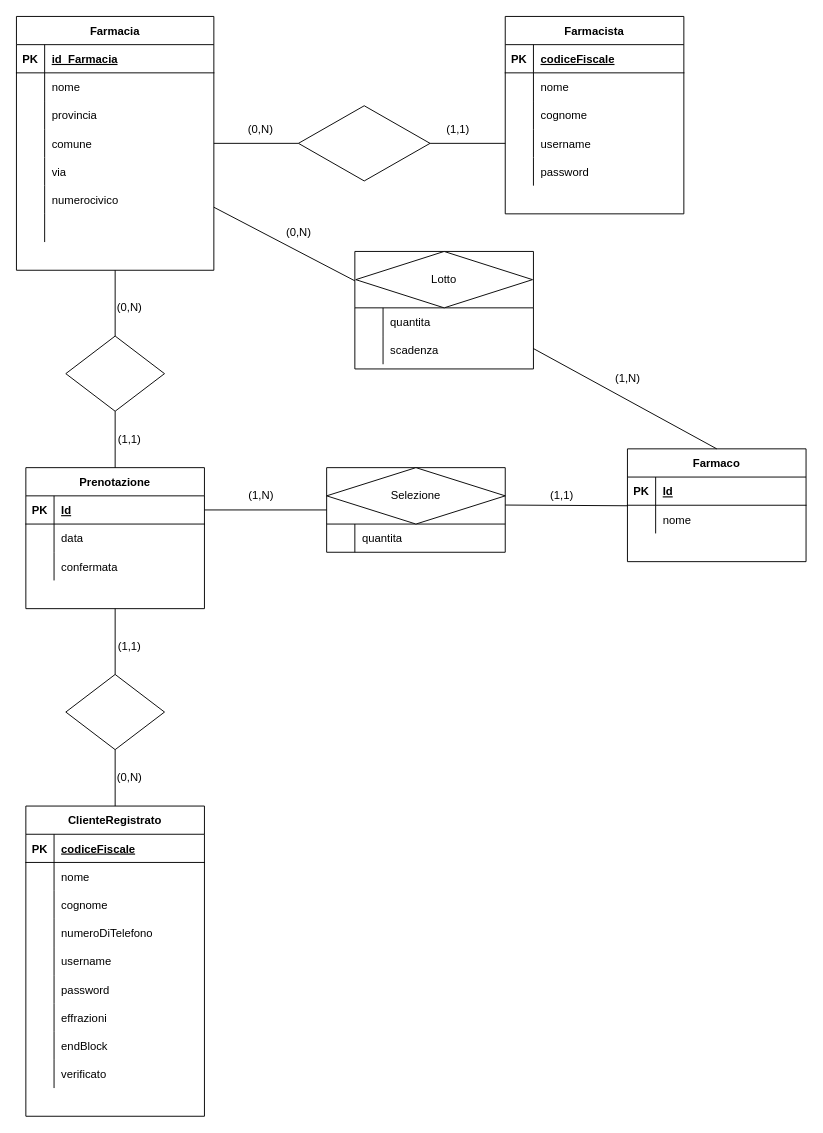
The diagram is 823 pixels wide and 1133 high, and some of its shapes have lost their labels. Here are the shapes that lost their labels. From the top down, the centre of each, then its label:
At point (364, 143): "impiegato".
At point (114, 373): "associatoA".
At point (114, 712): "effettuata".
